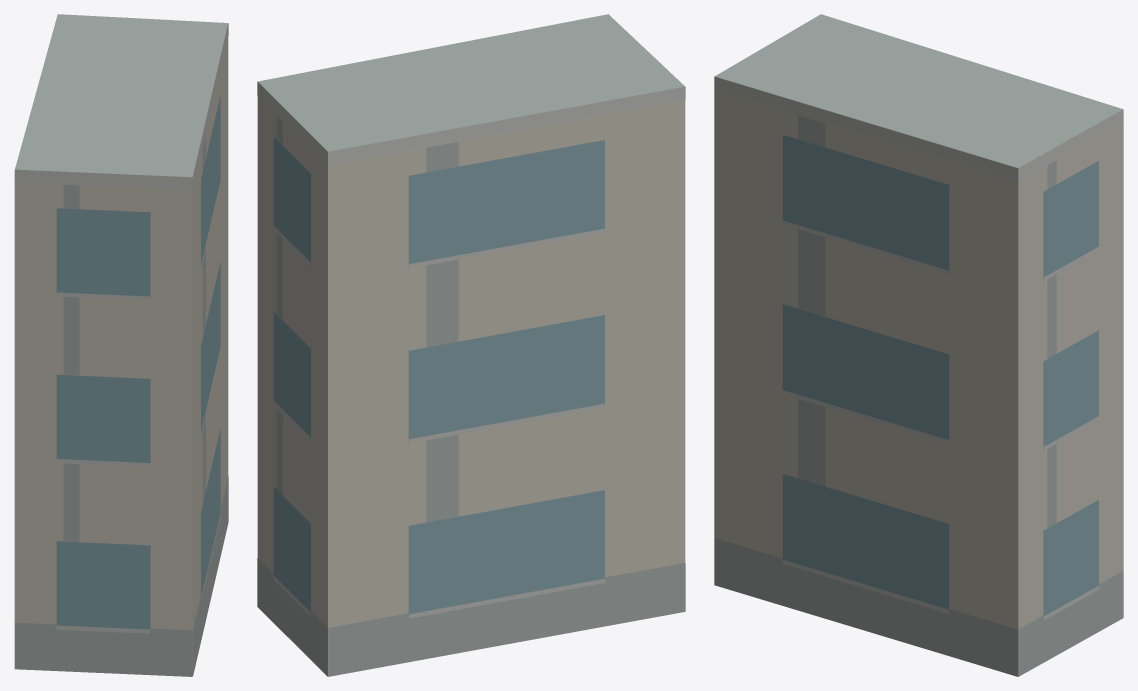
The model's file is survey-upis-32571571.glb.
3 renders of one model, left to right at view 1: azimuth 30°, elevation 25°; view 2: azimuth 150°, elevation 25°; view 3: azimuth 270°, elevation 25°, orthographic. The views are drawn at different scales.
Visible parts, largest first — view 1: survey-upis-32571571.tmp; view 2: survey-upis-32571571.tmp; view 3: survey-upis-32571571.tmp.
Part boxes in pixels (x1=…): survey-upis-32571571.tmp: x1=14, y1=14, x2=228, y2=676; survey-upis-32571571.tmp: x1=257, y1=14, x2=685, y2=676; survey-upis-32571571.tmp: x1=714, y1=14, x2=1123, y2=676.
Size of the model in its own units: 5.96 by 9.15 by 6.68.
